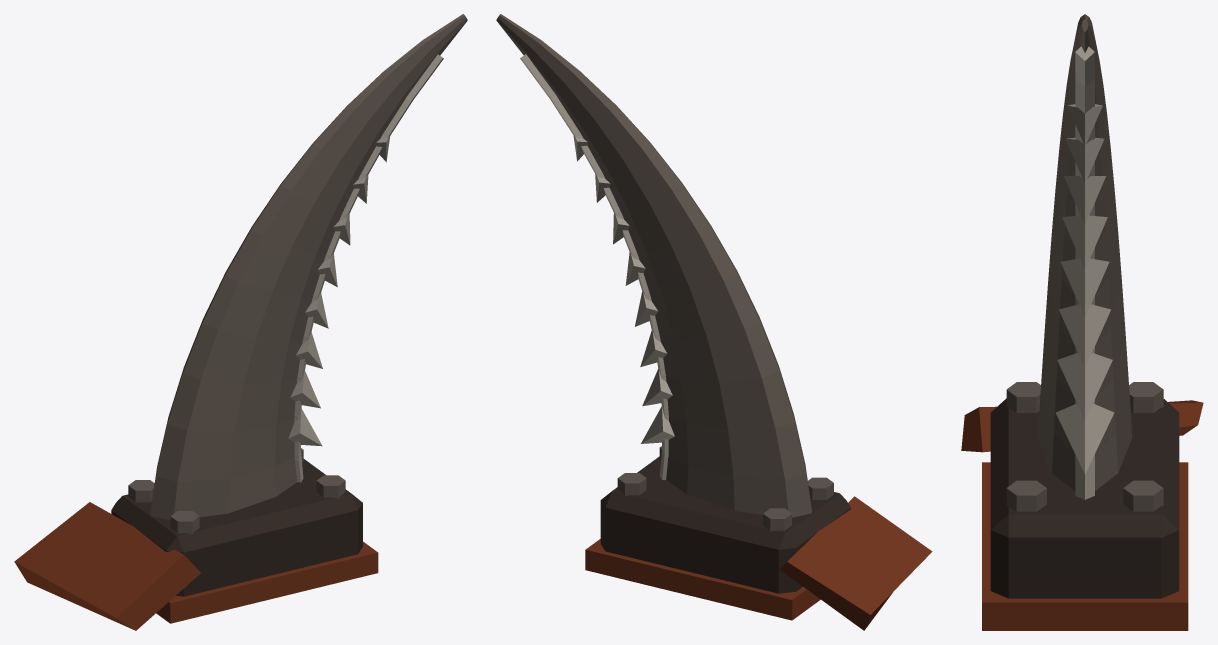
The model's file is worm_tooth.glb.
3 views of the same model, side by side, from view 1: azimuth 30°, elevation 25°; view 2: azimuth 150°, elevation 25°; view 3: azimuth 270°, elevation 25° (orthographic). The views are drawn at different scales.
Visible parts, largest first — view 1: worm_tooth; view 2: worm_tooth; view 3: worm_tooth.
Part boxes in pixels (x1,y1,x2,y2): worm_tooth: [14, 14, 467, 630]; worm_tooth: [496, 14, 932, 630]; worm_tooth: [961, 14, 1203, 630].
Size of the model in its own units: 0.1477 by 0.1708 by 0.054.
